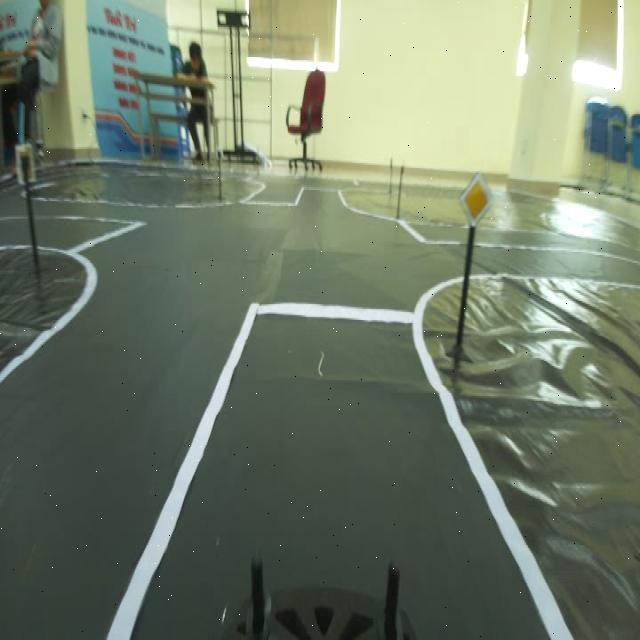priority: (454, 161, 494, 229)
